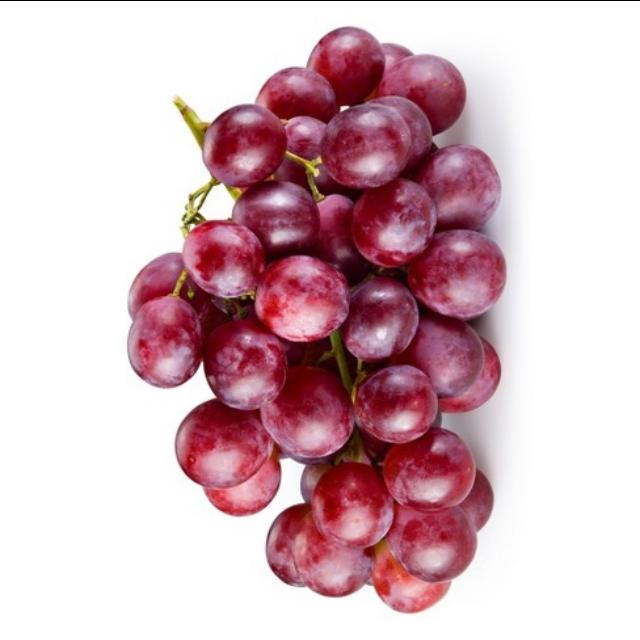Grapes: (174, 400, 268, 486), (409, 230, 505, 312), (252, 256, 344, 340), (264, 369, 352, 455), (317, 102, 409, 182), (200, 104, 288, 186), (348, 184, 438, 264), (310, 459, 392, 543), (127, 294, 203, 384), (340, 276, 420, 360), (390, 502, 476, 580), (180, 221, 266, 297), (357, 365, 437, 439), (263, 540, 369, 592), (308, 28, 386, 96)
